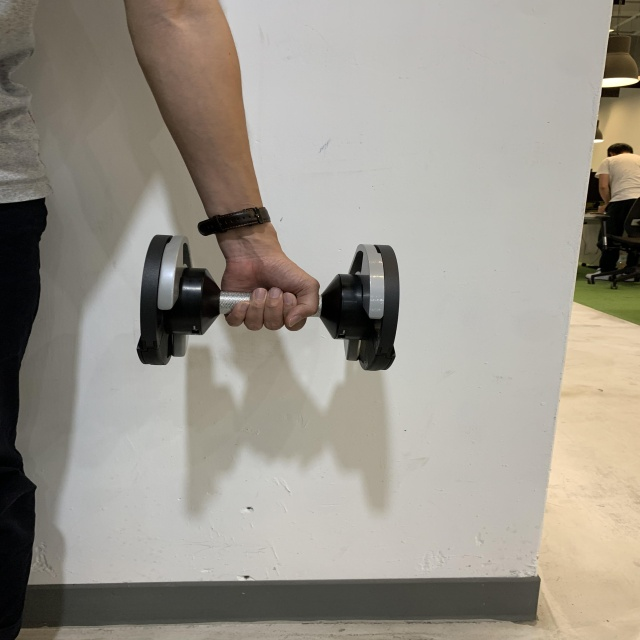02-4kg: (136, 232, 402, 374)
